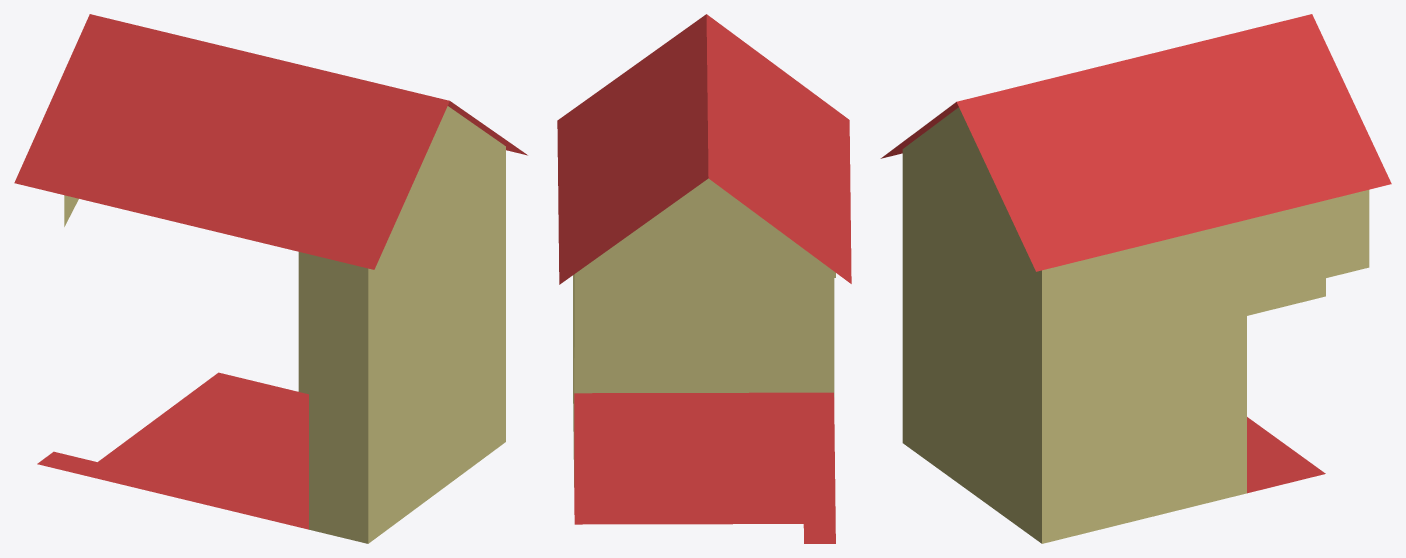
3 renders of one model, left to right at view 1: azimuth 30°, elevation 25°; view 2: azimuth 150°, elevation 25°; view 3: azimuth 270°, elevation 25°, orthographic. The views are drawn at different scales.
Bounding box in the file's own units: 14.39 × 15.51 × 13.18.
